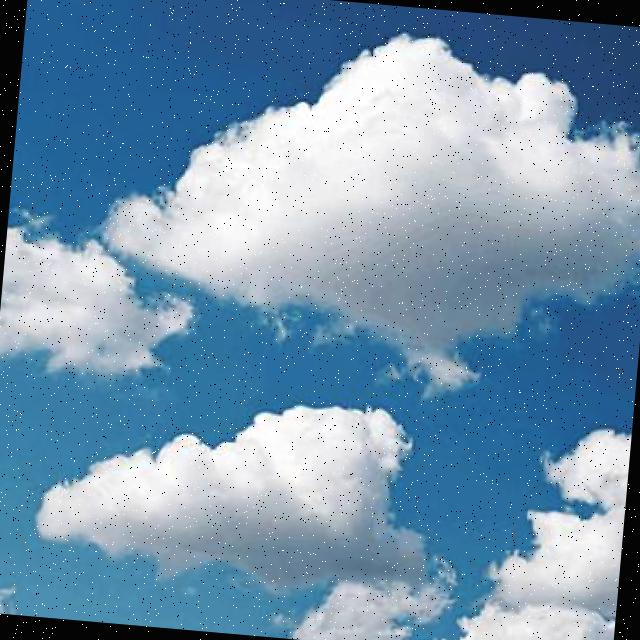Cu: (1, 1, 640, 640)
